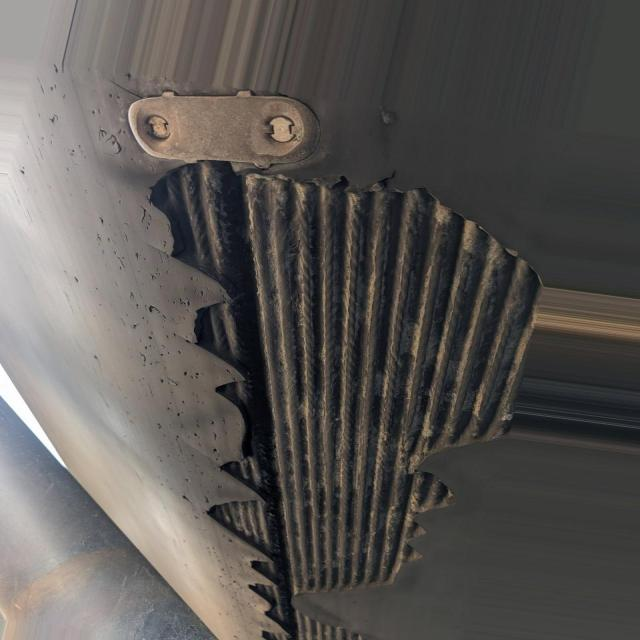Tear: (153, 153, 559, 640)
